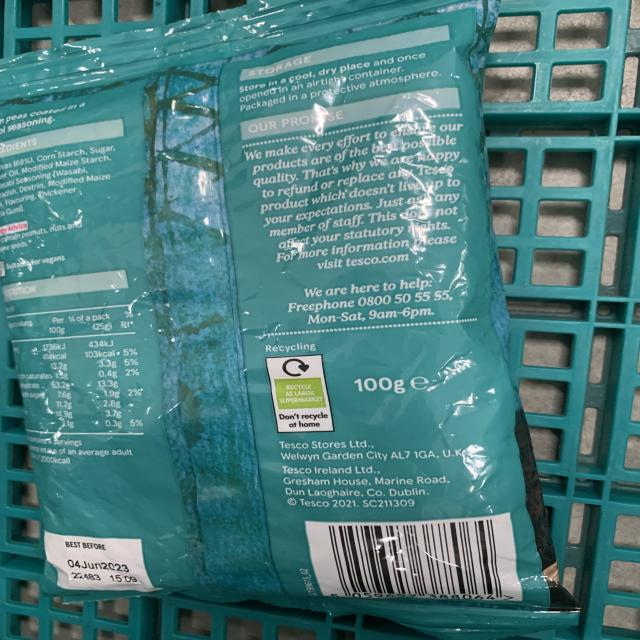object_name: (4, 30, 538, 617)
